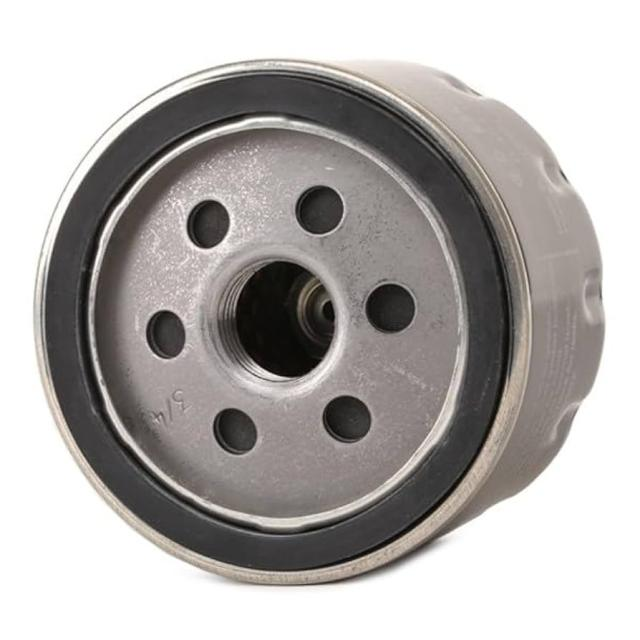oil_filter: (45, 96, 602, 535)
